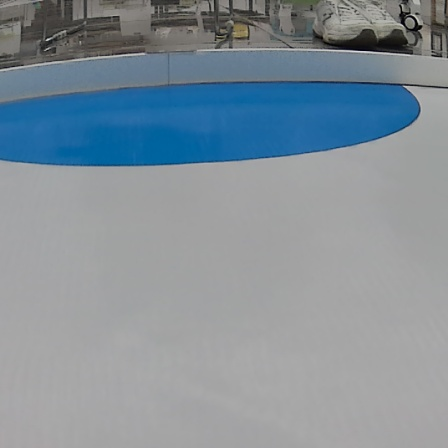blue_base: (1, 79, 420, 168)
